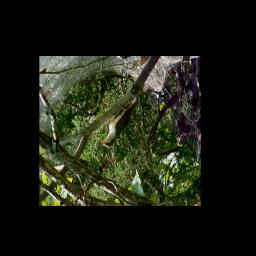Cuckoo: (100, 85, 145, 149)
